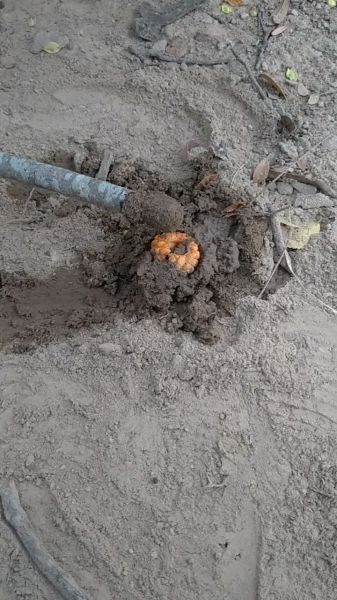eggs: (150, 221, 202, 283)
